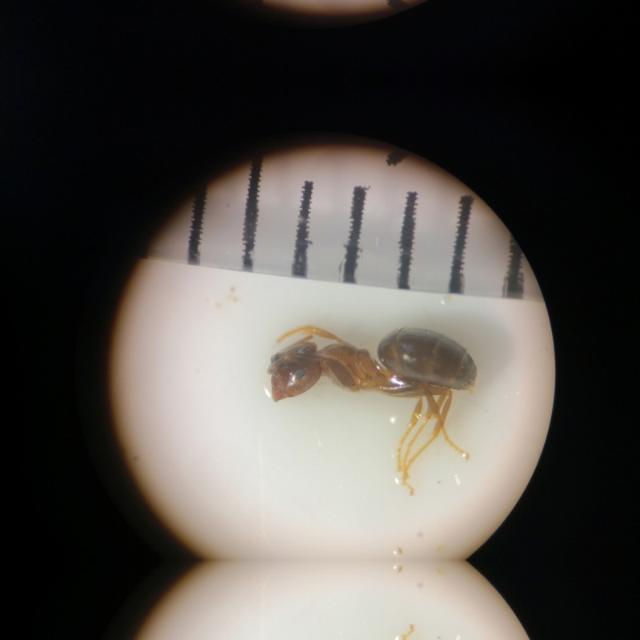Lasius: (237, 294, 483, 491)
